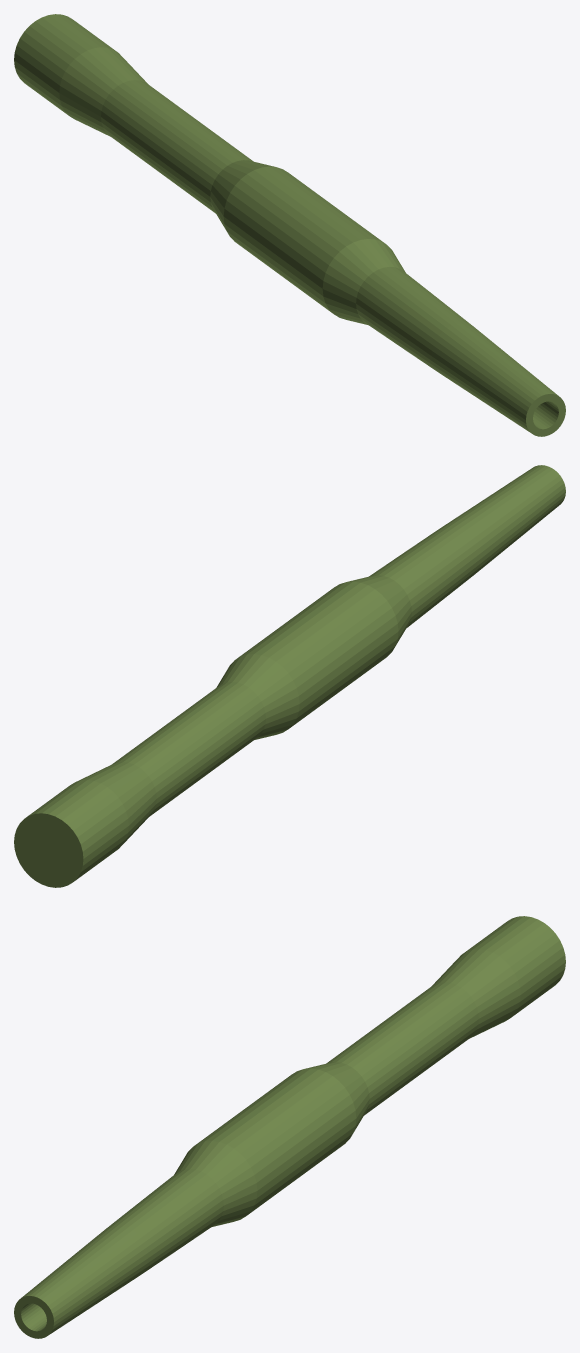
The model's file is T_Cañon.fbx.
The picture shows the model from 3 angles, top to bottom: view 1: azimuth 30°, elevation 25°; view 2: azimuth 150°, elevation 25°; view 3: azimuth 330°, elevation 25°; orthographic projection.
Visible parts, largest first — view 1: Cañon; view 2: Cañon; view 3: Cañon.
Boxes of the visible parts, <box> form: Cañon: <box>14,14,565,436</box>; Cañon: <box>14,465,565,887</box>; Cañon: <box>14,916,565,1338</box>.
Bounding box in the file's own units: 40.88 × 40.88 × 464.
